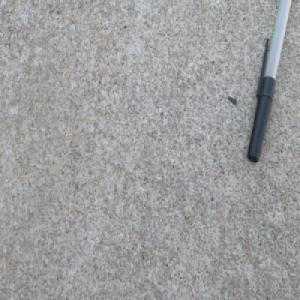Pen: (245, 0, 293, 167)
